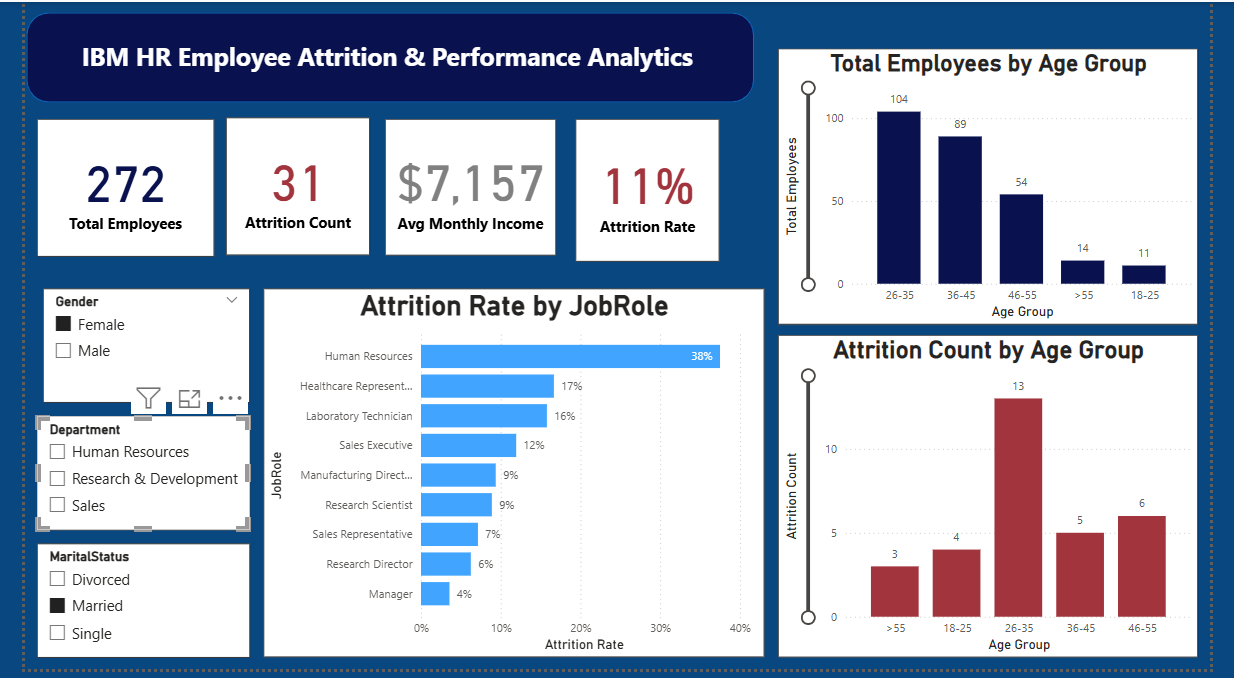

What the dashboard file says about the page in this screenshot:
{"tool":"powerbi","page":{"name":"Page 1","canvas":[1280,720],"ordinal":0},"visuals":[{"type":"clusteredColumnChart","fields":{"Category":["Table.Age Group"],"Y":["_Measures.Total Employees"]},"box":[812.9,50.2,453.4,297.9],"z":0},{"type":"card","fields":{"Values":["_Measures.Total Employees"]},"box":[13,126.3,191.1,149],"z":1000},{"type":"card","fields":{"Values":["_Measures.Attrition Count"]},"box":[217,124.7,155.4,149],"z":2000},{"type":"card","fields":{"Values":["_Measures.Attrition Rate"]},"box":[594.3,126.3,155.4,153.8],"z":3000},{"type":"card","fields":{"Values":["_Measures.Avg Monthly Income"]},"box":[388.6,126.3,184.6,147.3],"z":4000},{"type":"clusteredBarChart","fields":{"Category":["WA_Fn-UseC_-HR-Employee-Attrition.JobRole"],"Y":["_Measures.Attrition Rate"]},"box":[257.5,309.3,540.8,398.3],"z":5000},{"type":"clusteredColumnChart","fields":{"Category":["Table.Age Group"],"Y":["_Measures.Attrition Count"]},"box":[812.9,359.5,453.4,348.1],"z":6000},{"type":"slicer","fields":{"Values":["WA_Fn-UseC_-HR-Employee-Attrition.Department"]},"box":[13,446.9,229.9,123.1],"z":7000},{"type":"slicer","fields":{"Values":["WA_Fn-UseC_-HR-Employee-Attrition.Gender"]},"box":[19.4,309.3,223.5,123.1],"z":8000},{"type":"slicer","fields":{"Values":["WA_Fn-UseC_-HR-Employee-Attrition.MaritalStatus"]},"box":[13,584.5,229.9,123.1],"z":9000},{"type":"shape","box":[1.6,11.3,785.3,97.2],"z":10000},{"type":"textbox","box":[19.4,30.8,743.2,56.7],"z":11000}]}

Visuals, with their boxes in screenshot pixels (x1, y1, x2, y2), scaled from the page's 1280x720 canvas onto the 1234x678 screenshot:
clusteredColumnChart - Table.Age Group x _Measures.Total Employees: (left=784, top=47, right=1221, bottom=328)
card - _Measures.Total Employees: (left=13, top=119, right=197, bottom=259)
card - _Measures.Attrition Count: (left=209, top=117, right=359, bottom=258)
card - _Measures.Attrition Rate: (left=573, top=119, right=723, bottom=264)
card - _Measures.Avg Monthly Income: (left=375, top=119, right=553, bottom=258)
clusteredBarChart - WA_Fn-UseC_-HR-Employee-Attrition.JobRole x _Measures.Attrition Rate: (left=248, top=291, right=770, bottom=666)
clusteredColumnChart - Table.Age Group x _Measures.Attrition Count: (left=784, top=339, right=1221, bottom=666)
slicer - WA_Fn-UseC_-HR-Employee-Attrition.Department: (left=13, top=421, right=234, bottom=537)
slicer - WA_Fn-UseC_-HR-Employee-Attrition.Gender: (left=19, top=291, right=234, bottom=407)
slicer - WA_Fn-UseC_-HR-Employee-Attrition.MaritalStatus: (left=13, top=550, right=234, bottom=666)
shape: (left=2, top=11, right=759, bottom=102)
textbox: (left=19, top=29, right=735, bottom=82)
